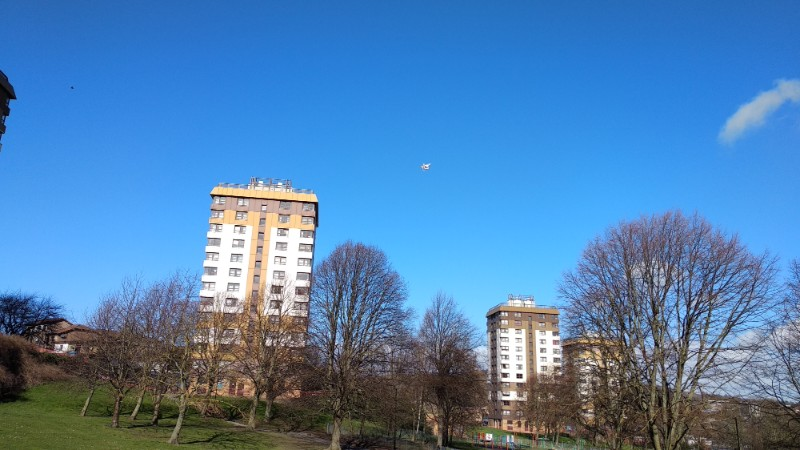drone: (419, 161, 432, 173)
